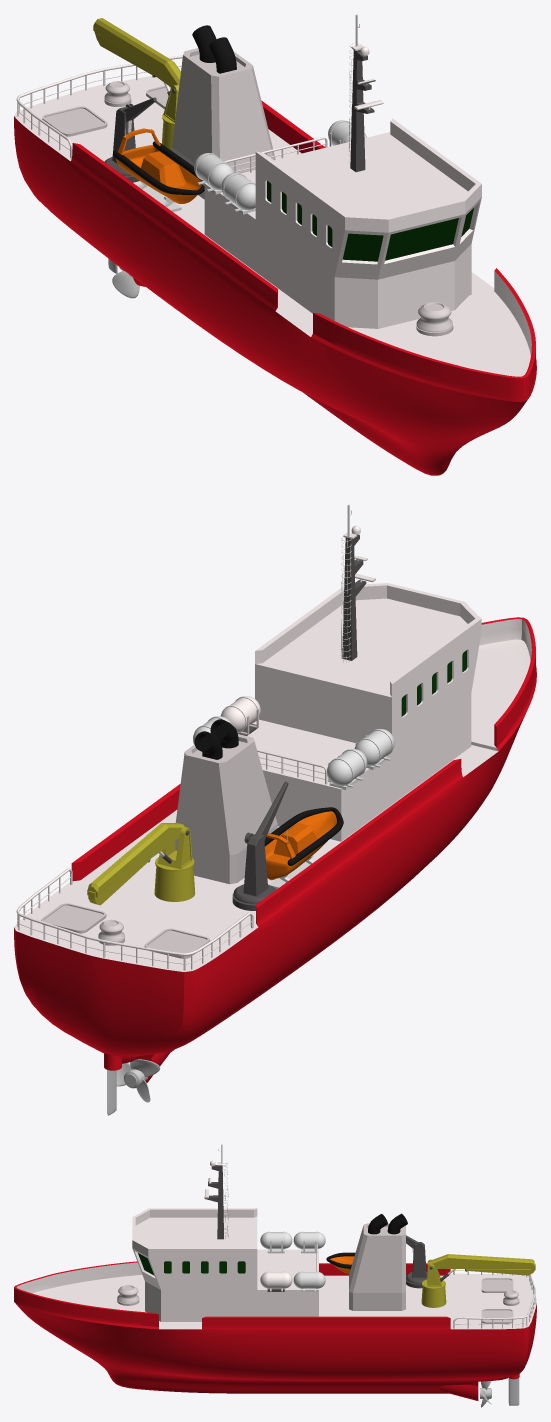
Rendered from GenericSmallShip.fbx.
3 views of the same model, one above another, from view 1: azimuth 30°, elevation 25°; view 2: azimuth 150°, elevation 25°; view 3: azimuth 270°, elevation 25° (orthographic). The views are drawn at different scales.
Parts seen in each view (by area): view 1: Cube.072, Cube.013, Cube.048, Кран|Cube.033|Dupli|1, Cube.015, Cube.449, RIB-R.000|Cube.216|Dupli|, RIB-R.000|Cube.213|Dupli|3, Cylinder.008, RIB-R.000|Cube.215|Dupli|1, Спасательный плот А.002|Sphere.046|Dupli|3, Спасательный плот А.003|Sphere.046|Dupli|3 (+5 smaller); view 2: Cube.072, Cube.013, Cube.048, Кран|Cube.033|Dupli|1, Cube.015, RIB-R.000|Cube.216|Dupli|, Кран|Cylinder.027|Dupli|4, Cube.450, Кранбалка|Cube.070|Dupli|, Vert.023, Cube.449, Спасательный плот А.003|Sphere.046|Dupli|3 (+6 smaller); view 3: Cube.072, Cube.013, Cube.048, Кран|Cube.033|Dupli|1, Cube.015, Кран|Cylinder.027|Dupli|4, Спасательный плот А.000|Sphere.046|Dupli|3, Спасательный плот А.001|Sphere.046|Dupli|3, Спасательный плот А.002|Sphere.046|Dupli|3, Спасательный плот А.003|Sphere.046|Dupli|3, Cylinder.011, Cube.449 (+5 smaller).
Boxes of the visible parts, bbox=[...] form: Cube.072: bbox=[14, 76, 536, 475]; Cube.013: bbox=[204, 118, 481, 328]; Cube.048: bbox=[172, 48, 275, 199]; Кран|Cube.033|Dupli|1: bbox=[93, 18, 180, 87]; Cube.015: bbox=[350, 50, 374, 172]; Cube.449: bbox=[42, 106, 107, 136]; RIB-R.000|Cube.216|Dupli|: bbox=[116, 145, 201, 203]; RIB-R.000|Cube.213|Dupli|3: bbox=[113, 141, 204, 194]; Cylinder.008: bbox=[416, 302, 453, 336]; RIB-R.000|Cube.215|Dupli|1: bbox=[141, 151, 186, 187]; Спасательный плот А.002|Sphere.046|Dupli|3: bbox=[221, 173, 255, 210]; Спасательный плот А.003|Sphere.046|Dupli|3: bbox=[194, 153, 233, 189]; Cube.072: bbox=[14, 617, 536, 1063]; Cube.013: bbox=[247, 583, 481, 841]; Cube.048: bbox=[175, 733, 277, 884]; Кран|Cube.033|Dupli|1: bbox=[87, 823, 184, 897]; Cube.015: bbox=[342, 534, 366, 660]; RIB-R.000|Cube.216|Dupli|: bbox=[265, 811, 336, 880]; Кран|Cylinder.027|Dupli|4: bbox=[154, 857, 195, 901]; Cube.450: bbox=[41, 903, 106, 933]; Кранбалка|Cube.070|Dupli|: bbox=[243, 834, 267, 896]; Vert.023: bbox=[16, 868, 253, 955]; Cube.449: bbox=[144, 928, 209, 958]; Спасательный плот А.003|Sphere.046|Dupli|3: bbox=[327, 749, 367, 785]; Cube.072: bbox=[14, 1261, 536, 1393]; Cube.013: bbox=[132, 1208, 318, 1321]; Cube.048: bbox=[349, 1223, 405, 1310]; Кран|Cube.033|Dupli|1: bbox=[427, 1254, 534, 1268]; Cube.015: bbox=[204, 1165, 223, 1239]; Кран|Cylinder.027|Dupli|4: bbox=[421, 1279, 446, 1307]; Спасательный плот А.000|Sphere.046|Dupli|3: bbox=[260, 1271, 292, 1288]; Спасательный плот А.001|Sphere.046|Dupli|3: bbox=[293, 1271, 325, 1288]; Спасательный плот А.002|Sphere.046|Dupli|3: bbox=[260, 1231, 292, 1249]; Спасательный плот А.003|Sphere.046|Dupli|3: bbox=[293, 1231, 325, 1249]; Cylinder.011: bbox=[439, 1381, 478, 1400]; Cube.449: bbox=[481, 1278, 513, 1292].
Bounding box in the file's own units: 1545 × 3443 × 6136.
